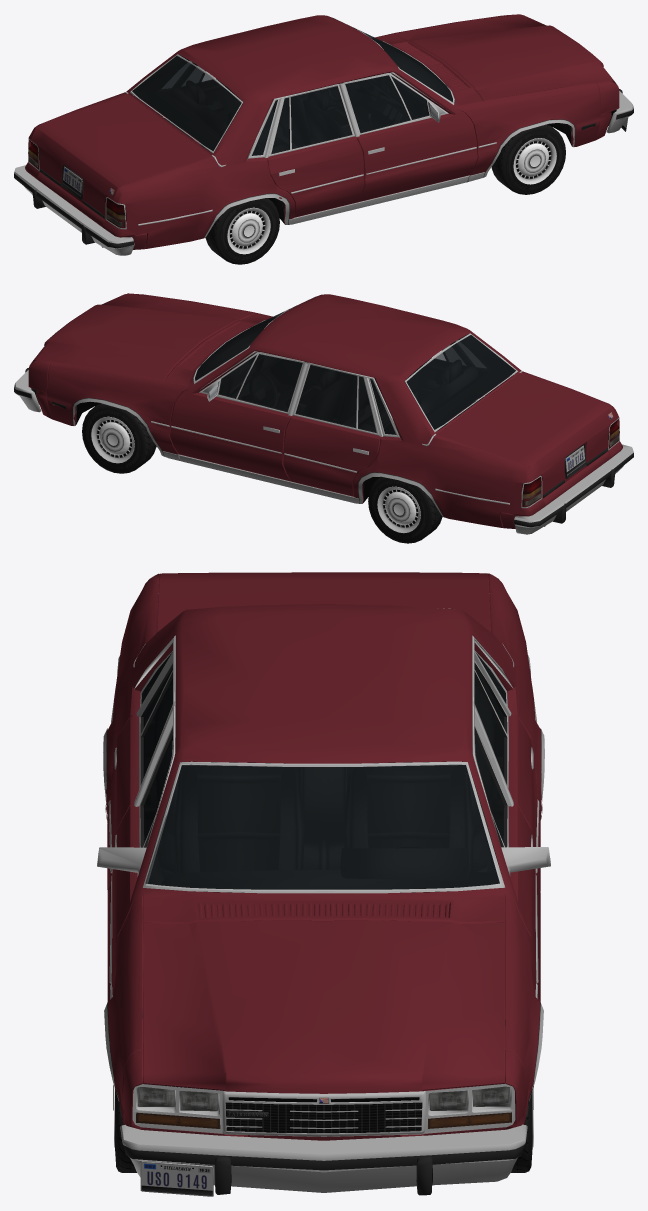
File: generico-sedan-80.glb
The picture shows the model from 3 angles, top to bottom: view 1: azimuth 30°, elevation 25°; view 2: azimuth 150°, elevation 25°; view 3: azimuth 270°, elevation 25°; orthographic projection. The views are drawn at different scales.
Parts seen in each view (by area): view 1: Fairheaven_LT80_body_Fairheaven_LT80_Bodymat_0, Fairheaven_LT80_trunk_door_Fairheaven_LT80_Bodymat_0, Fairheaven_LT80_Hood_Fairheaven_LT80_Bodymat_0, Fairheaven_LT80_Interior_Trim_UCB_Interior_Trim_0, Fairheaven_LT80_Grand_Trim_UCB_BOTTOM_GT_0, Fairheaven_LT80_Interior_UCB_Interior_Trim_0, Fairheaven_LT80_Glass_Rear_UCB_Lights_and_Glass_Transperent_, Fairheaven_LT80_Glass_Body_UCB_Lights_and_Glass_Transperent_, Fairheaven_LT80_WheelHubcaps_FR_RB1c_Tire_1k_0, Fairheaven_LT80_WheelHubcaps_RL_RB1c_Tire_1k_0, Fairheaven_LT80_Glass_Passanger001_UCB_Lights_and_Glass_Tran, Fairheaven_LT80_bumper_rear_UCB_BOTTOM_GT_0 (+7 smaller); view 2: Fairheaven_LT80_body_Fairheaven_LT80_Bodymat_0, Fairheaven_LT80_trunk_door_Fairheaven_LT80_Bodymat_0, Fairheaven_LT80_Hood_Fairheaven_LT80_Bodymat_0, Fairheaven_LT80_Grand_Trim_UCB_BOTTOM_GT_0, Fairheaven_LT80_Interior_Trim_UCB_Interior_Trim_0, Fairheaven_LT80_Interior_UCB_Interior_Trim_0, Fairheaven_LT80_Glass_Rear_UCB_Lights_and_Glass_Transperent_, Fairheaven_LT80_Glass_Body_UCB_Lights_and_Glass_Transperent_, Fairheaven_LT80_WheelHubcaps_FL_RB1c_Tire_1k_0, Fairheaven_LT80_WheelHubcaps_RR_RB1c_Tire_1k_0, Fairheaven_LT80_Glass_Driver001_UCB_Lights_and_Glass_Transpe, Fairheaven_LT80_bumper_rear_UCB_BOTTOM_GT_0 (+8 smaller); view 3: Fairheaven_LT80_body_Fairheaven_LT80_Bodymat_0, Fairheaven_LT80_Hood_Fairheaven_LT80_Bodymat_0, Fairheaven_LT80_Interior_Trim_UCB_Interior_Trim_0, Fairheaven_LT80_Windshield_UCB_Lights_and_Glass_Transperent_, Fairheaven_LT80_Bumper_Front_UCB_BOTTOM_GT_0, Fairheaven_LT80_Grand_Trim_UCB_BOTTOM_GT_0, Fairheaven_LT80_Front_Plate_Inner_UCB_BOTTOM_GT_0, Fairheaven_LT80_trunk_door_Fairheaven_LT80_Bodymat_0, Fairheaven_LT80_Headlights_Glass_UCB_Lights_and_Glass_Transp, Fairheaven_LT80_Front_Plate_Fairheaven_LT80_Bodymat_0, Fairheaven_LT80_Glass_Body_UCB_Lights_and_Glass_Transperent_, Fairheaven_LT80_Headlights_UCB_Lights_and_Glass_0 (+4 smaller).
Boxes of the visible parts, left/top/right/bottom form: Fairheaven_LT80_body_Fairheaven_LT80_Bodymat_0: left=25, top=15, right=600, bottom=249; Fairheaven_LT80_trunk_door_Fairheaven_LT80_Bodymat_0: left=31, top=94, right=211, bottom=219; Fairheaven_LT80_Hood_Fairheaven_LT80_Bodymat_0: left=393, top=14, right=615, bottom=100; Fairheaven_LT80_Interior_Trim_UCB_Interior_Trim_0: left=169, top=44, right=454, bottom=208; Fairheaven_LT80_Grand_Trim_UCB_BOTTOM_GT_0: left=28, top=29, right=574, bottom=238; Fairheaven_LT80_Interior_UCB_Interior_Trim_0: left=38, top=39, right=451, bottom=217; Fairheaven_LT80_Glass_Rear_UCB_Lights_and_Glass_Transperent_: left=132, top=56, right=241, bottom=150; Fairheaven_LT80_Glass_Body_UCB_Lights_and_Glass_Transperent_: left=162, top=61, right=351, bottom=155; Fairheaven_LT80_WheelHubcaps_FR_RB1c_Tire_1k_0: left=491, top=124, right=565, bottom=194; Fairheaven_LT80_WheelHubcaps_RL_RB1c_Tire_1k_0: left=205, top=198, right=279, bottom=264; Fairheaven_LT80_Glass_Passanger001_UCB_Lights_and_Glass_Tran: left=345, top=75, right=428, bottom=132; Fairheaven_LT80_bumper_rear_UCB_BOTTOM_GT_0: left=14, top=165, right=134, bottom=255; Fairheaven_LT80_body_Fairheaven_LT80_Bodymat_0: left=47, top=294, right=622, bottom=528; Fairheaven_LT80_trunk_door_Fairheaven_LT80_Bodymat_0: left=436, top=373, right=616, bottom=498; Fairheaven_LT80_Hood_Fairheaven_LT80_Bodymat_0: left=32, top=293, right=254, bottom=379; Fairheaven_LT80_Grand_Trim_UCB_BOTTOM_GT_0: left=73, top=310, right=619, bottom=517; Fairheaven_LT80_Interior_Trim_UCB_Interior_Trim_0: left=193, top=325, right=478, bottom=481; Fairheaven_LT80_Interior_UCB_Interior_Trim_0: left=197, top=318, right=610, bottom=489; Fairheaven_LT80_Glass_Rear_UCB_Lights_and_Glass_Transperent_: left=406, top=335, right=515, bottom=429; Fairheaven_LT80_Glass_Body_UCB_Lights_and_Glass_Transperent_: left=296, top=340, right=485, bottom=434; Fairheaven_LT80_WheelHubcaps_FL_RB1c_Tire_1k_0: left=82, top=403, right=156, bottom=473; Fairheaven_LT80_WheelHubcaps_RR_RB1c_Tire_1k_0: left=368, top=476, right=442, bottom=543; Fairheaven_LT80_Glass_Driver001_UCB_Lights_and_Glass_Transpe: left=219, top=354, right=302, bottom=411; Fairheaven_LT80_bumper_rear_UCB_BOTTOM_GT_0: left=514, top=444, right=633, bottom=534; Fairheaven_LT80_body_Fairheaven_LT80_Bodymat_0: left=106, top=573, right=541, bottom=1124; Fairheaven_LT80_Hood_Fairheaven_LT80_Bodymat_0: left=142, top=920, right=505, bottom=1093; Fairheaven_LT80_Interior_Trim_UCB_Interior_Trim_0: left=145, top=688, right=504, bottom=920; Fairheaven_LT80_Windshield_UCB_Lights_and_Glass_Transperent_: left=145, top=764, right=499, bottom=889; Fairheaven_LT80_Bumper_Front_UCB_BOTTOM_GT_0: left=120, top=1124, right=527, bottom=1195; Fairheaven_LT80_Grand_Trim_UCB_BOTTOM_GT_0: left=97, top=608, right=550, bottom=1100; Fairheaven_LT80_Front_Plate_Inner_UCB_BOTTOM_GT_0: left=132, top=1083, right=515, bottom=1136; Fairheaven_LT80_trunk_door_Fairheaven_LT80_Bodymat_0: left=157, top=572, right=490, bottom=632; Fairheaven_LT80_Headlights_Glass_UCB_Lights_and_Glass_Transp: left=136, top=1086, right=511, bottom=1128; Fairheaven_LT80_Front_Plate_Fairheaven_LT80_Bodymat_0: left=122, top=1050, right=525, bottom=1140; Fairheaven_LT80_Glass_Body_UCB_Lights_and_Glass_Transperent_: left=141, top=652, right=506, bottom=777; Fairheaven_LT80_Headlights_UCB_Lights_and_Glass_0: left=138, top=1087, right=509, bottom=1111.
Bounding box in the file's own units: 5 × 1.35 × 1.82.
8 materials, 7 textured.
